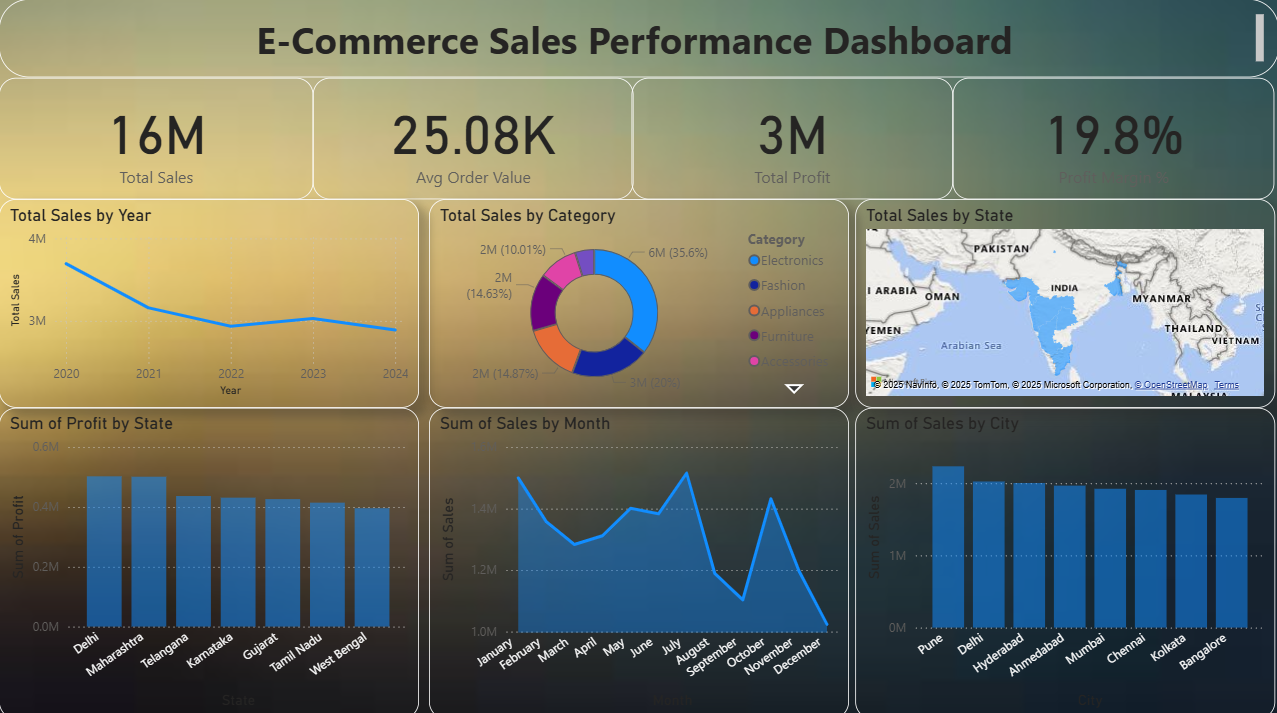

The page's visual inventory and layout, read from the dashboard file:
{"tool":"powerbi","page":{"name":"Page 1","canvas":[1280,720],"ordinal":0},"visuals":[{"type":"textbox","box":[0,0,1280,78.6],"z":0},{"type":"card","fields":{"Values":["Ecommerce_Sales_Data_1000.Total Sales"]},"box":[0,78.6,314.3,121.4],"z":1000},{"type":"card","fields":{"Values":["Ecommerce_Sales_Data_1000.Total Profit"]},"box":[632.9,78.6,321.4,121.4],"z":2000},{"type":"card","fields":{"Values":["Ecommerce_Sales_Data_1000.Avg Order Value"]},"box":[314.3,78.6,321,121.4],"z":3000},{"type":"card","fields":{"Values":["Ecommerce_Sales_Data_1000.Profit Margin %"]},"box":[954.3,78.6,321.4,121.4],"z":4000},{"type":"lineChart","fields":{"Category":["Ecommerce_Sales_Data_1000.Order Date.Variation.Date Hierarchy.Year","Ecommerce_Sales_Data_1000.Order Date.Variation.Date Hierarchy.Month"],"Y":["Ecommerce_Sales_Data_1000.Total Sales"]},"box":[0,200,420,208.6],"z":5000},{"type":"donutChart","fields":{"Category":["Ecommerce_Sales_Data_1000.Category"],"Y":["Ecommerce_Sales_Data_1000.Total Sales"]},"box":[430,200,420,208.6],"z":6000},{"type":"filledMap","fields":{"Category":["Ecommerce_Sales_Data_1000.State"]},"box":[855.7,200,420,208.6],"z":7000},{"type":"columnChart","fields":{"Y":["Sum(Ecommerce_Sales_Data_1000.Profit)"],"Category":["Ecommerce_Sales_Data_1000.State"]},"box":[0,408.6,420,311.4],"z":8000},{"type":"areaChart","fields":{"Category":["Ecommerce_Sales_Data_1000.Order Date.Variation.Date Hierarchy.Month","Ecommerce_Sales_Data_1000.Order Date.Variation.Date Hierarchy.Day"],"Y":["Sum(Ecommerce_Sales_Data_1000.Sales)"]},"box":[430,408.6,420,311.4],"z":9000},{"type":"columnChart","fields":{"Category":["Ecommerce_Sales_Data_1000.City"],"Y":["Sum(Ecommerce_Sales_Data_1000.Sales)"]},"box":[855.7,408.6,420,311.4],"z":10000}]}

Visuals, with their boxes in screenshot pixels (x1, y1, x2, y2), scaled from the page's 1280x720 canvas onto the 1277x713 screenshot:
textbox: (0, 0, 1276, 78)
card - Ecommerce_Sales_Data_1000.Total Sales: (0, 78, 314, 198)
card - Ecommerce_Sales_Data_1000.Total Profit: (631, 78, 952, 198)
card - Ecommerce_Sales_Data_1000.Avg Order Value: (314, 78, 634, 198)
card - Ecommerce_Sales_Data_1000.Profit Margin %: (952, 78, 1273, 198)
lineChart - Ecommerce_Sales_Data_1000.Order Date.Variation.Date Hierarchy.Year x Ecommerce_Sales_Data_1000.Order Date.Variation.Date Hierarchy.Month: (0, 198, 419, 405)
donutChart - Ecommerce_Sales_Data_1000.Category x Ecommerce_Sales_Data_1000.Total Sales: (429, 198, 848, 405)
filledMap - Ecommerce_Sales_Data_1000.State: (854, 198, 1273, 405)
columnChart - Sum(Ecommerce_Sales_Data_1000.Profit) x Ecommerce_Sales_Data_1000.State: (0, 405, 419, 712)
areaChart - Ecommerce_Sales_Data_1000.Order Date.Variation.Date Hierarchy.Month x Ecommerce_Sales_Data_1000.Order Date.Variation.Date Hierarchy.Day: (429, 405, 848, 712)
columnChart - Ecommerce_Sales_Data_1000.City x Sum(Ecommerce_Sales_Data_1000.Sales): (854, 405, 1273, 712)
